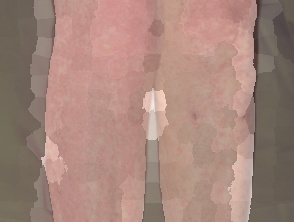SJS-TEN: (41, 0, 262, 222)
